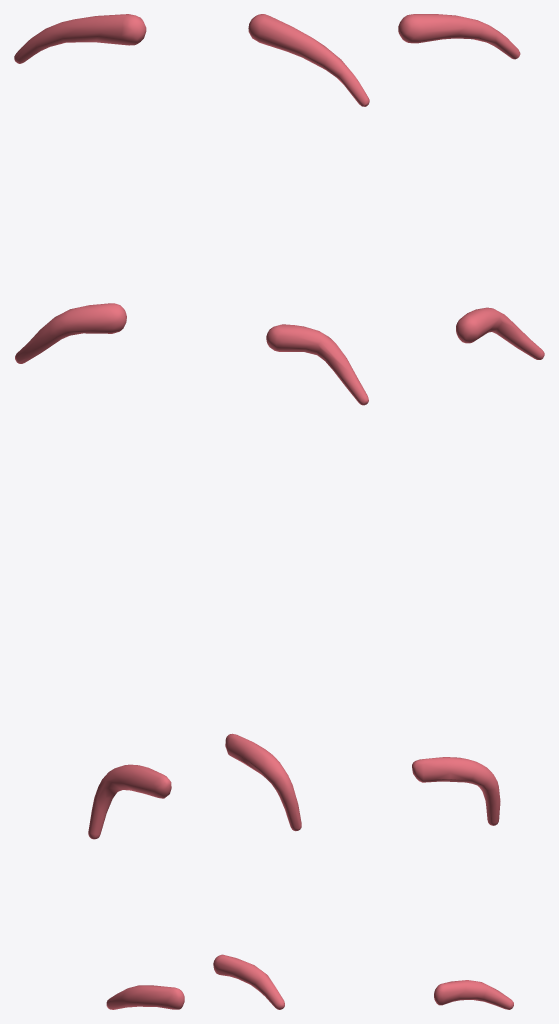
File: fma20731_fj2127.glb
3 views of the same model, side by side, from view 1: azimuth 30°, elevation 25°; view 2: azimuth 210°, elevation 25°; view 3: azimuth 270°, elevation 25° (orthographic). The views are drawn at different scales.
Visible parts, largest first — view 1: FMA20731_FJ2127; view 2: FMA20731_FJ2127; view 3: FMA20731_FJ2127.
Boxes of the visible parts, x1,y1,x2,y2 form: FMA20731_FJ2127: [14, 14, 184, 1009]; FMA20731_FJ2127: [213, 14, 369, 1009]; FMA20731_FJ2127: [398, 14, 544, 1009].
Size of the model in its own units: 0.0231 by 0.1771 by 0.024.
